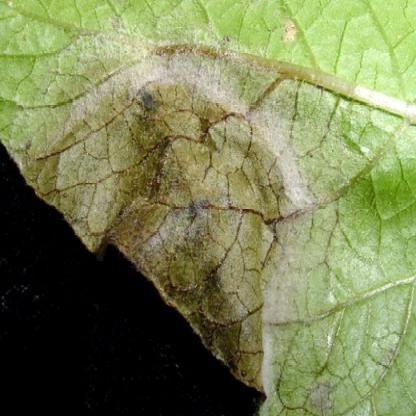Potato leaf early blight: (1, 1, 415, 409)
